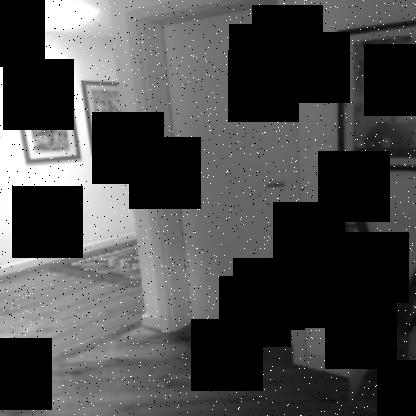Porte: (124, 0, 309, 367)
